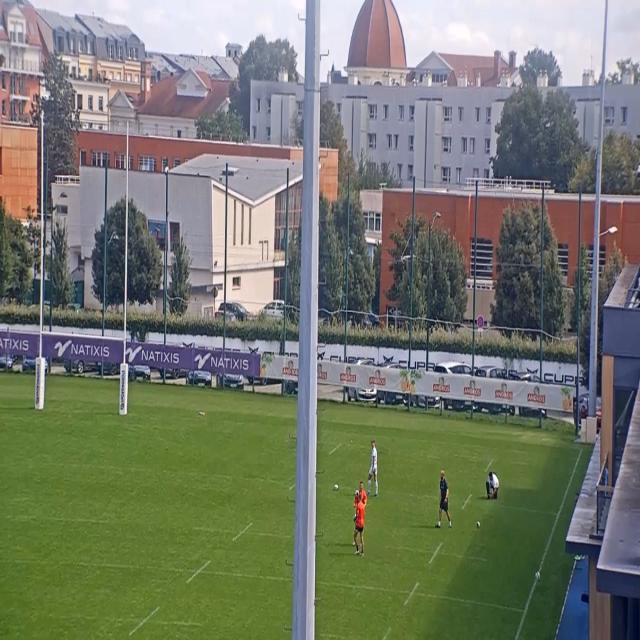rugby ball: (476, 514, 485, 536), (332, 478, 342, 497)
rugby play: (368, 436, 384, 502), (437, 464, 451, 531), (356, 489, 368, 550), (489, 461, 499, 501)
